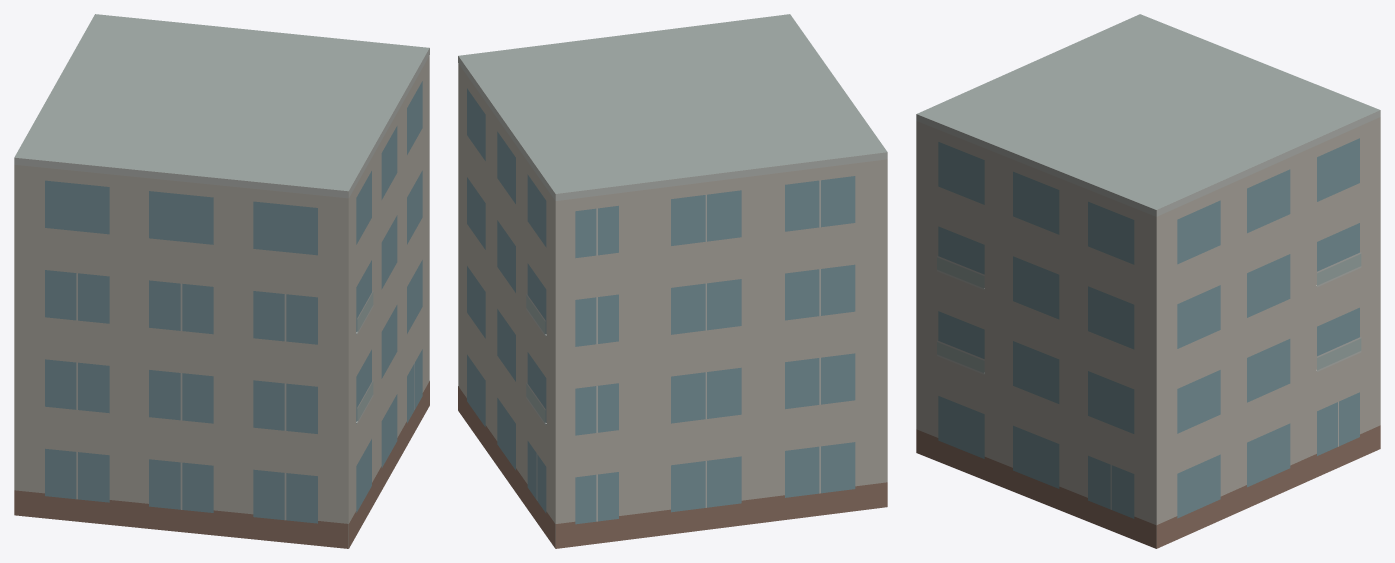
The model's file is residential-09bbf3d4-5b41-417a-88a1-0afa940e095b.glb.
3 views of the same model, side by side, from view 1: azimuth 30°, elevation 25°; view 2: azimuth 150°, elevation 25°; view 3: azimuth 270°, elevation 25° (orthographic). The views are drawn at different scales.
Parts seen in each view (by area): view 1: residential-09bbf3d4-5b41-417a-88a1-0afa940e095b.tmp; view 2: residential-09bbf3d4-5b41-417a-88a1-0afa940e095b.tmp; view 3: residential-09bbf3d4-5b41-417a-88a1-0afa940e095b.tmp.
Boxes of the visible parts, <box> form: residential-09bbf3d4-5b41-417a-88a1-0afa940e095b.tmp: <box>14,14,429,548</box>; residential-09bbf3d4-5b41-417a-88a1-0afa940e095b.tmp: <box>458,14,887,548</box>; residential-09bbf3d4-5b41-417a-88a1-0afa940e095b.tmp: <box>916,14,1380,548</box>.
Bounding box in the file's own units: 15.15 × 12.2 × 15.16.
